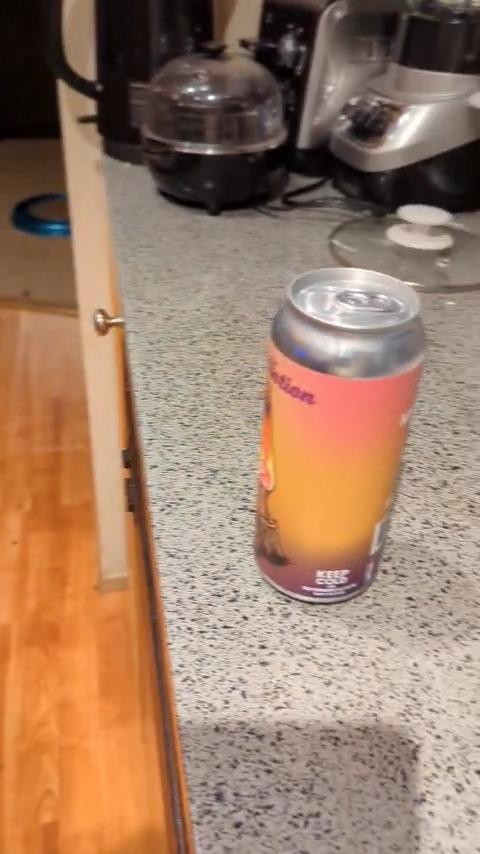metal: (255, 269, 425, 601)
